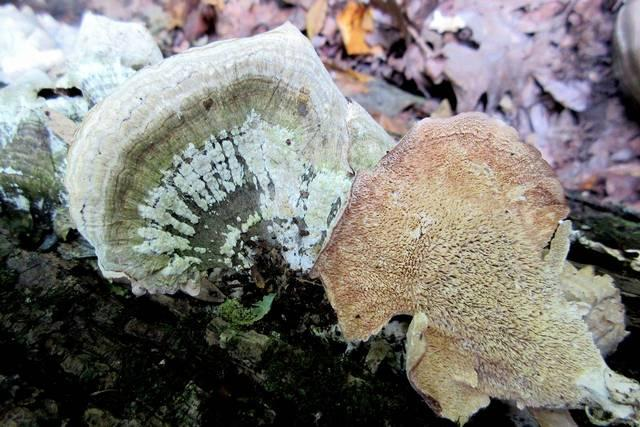Non-edible Mushroom: (308, 109, 638, 425), (61, 20, 394, 301)
